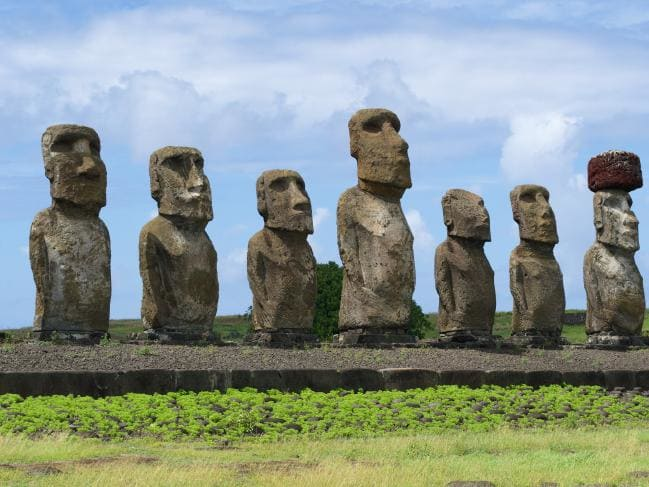person-like: (330, 105, 423, 342), (26, 119, 117, 345), (132, 141, 226, 349), (240, 160, 326, 348), (575, 150, 646, 347), (428, 185, 503, 342), (502, 180, 571, 348)
